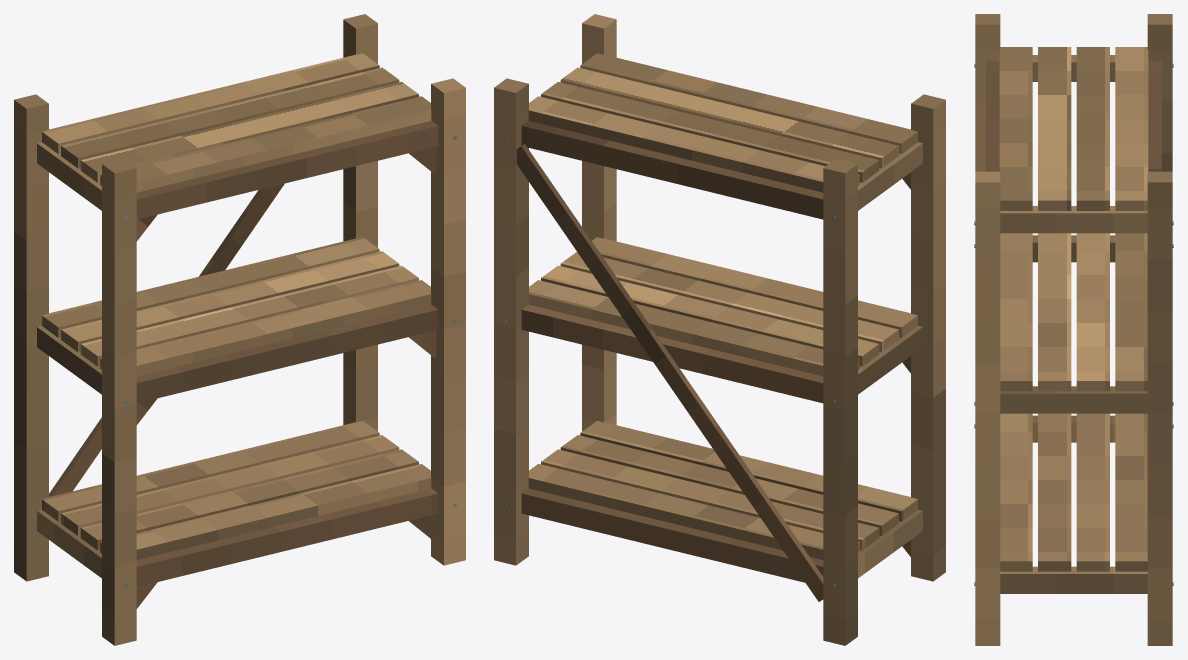
The model's file is wood-3.glb.
3 views of the same model, side by side, from view 1: azimuth 30°, elevation 25°; view 2: azimuth 150°, elevation 25°; view 3: azimuth 270°, elevation 25° (orthographic).
Visible parts, largest first — view 1: wood-3/post-0-0, wood-3/post-1-0, wood-3/post-0-1, wood-3/L2-apron--1, wood-3/L1-apron--1, wood-3/L3-apron--1, wood-3/L3-board-0, wood-3/L2-board-0, wood-3/L1-board-0, wood-3/post-1-1, wood-3/L3-board-2, wood-3/L3-board-3 (+11 smaller); view 2: wood-3/post-0-1, wood-3/post-1-1, wood-3/post-0-0, wood-3/rear-wood-brace, wood-3/L3-apron-1, wood-3/L3-board-3, wood-3/L1-apron-1, wood-3/L2-apron-1, wood-3/L2-board-3, wood-3/L1-board-3, wood-3/post-1-0, wood-3/L3-board-1 (+11 smaller); view 3: wood-3/post-1-0, wood-3/post-1-1, wood-3/L3-board-1, wood-3/L3-board-2, wood-3/L3-board-0, wood-3/L3-board-3, wood-3/L1-board-1, wood-3/L1-board-2, wood-3/L2-board-1, wood-3/L2-board-2, wood-3/L1-board-0, wood-3/L1-board-3 (+12 smaller).
Part boxes in pixels (<box>): wood-3/post-0-0: <box>102,158,136,645</box>; wood-3/post-1-0: <box>431,78,465,565</box>; wood-3/post-0-1: <box>14,94,48,581</box>; wood-3/L2-apron--1: <box>136,304,438,403</box>; wood-3/L1-apron--1: <box>136,488,438,586</box>; wood-3/L3-apron--1: <box>136,121,438,219</box>; wood-3/L3-board-0: <box>100,96,431,192</box>; wood-3/L2-board-0: <box>100,280,431,376</box>; wood-3/L1-board-0: <box>100,464,431,559</box>; wood-3/post-1-1: <box>343,14,377,431</box>; wood-3/L3-board-2: <box>61,67,399,168</box>; wood-3/L3-board-3: <box>42,53,379,153</box>; wood-3/post-0-1: <box>823,158,857,645</box>; wood-3/post-1-1: <box>494,78,528,565</box>; wood-3/post-0-0: <box>911,94,945,581</box>; wood-3/rear-wood-brace: <box>516,144,823,601</box>; wood-3/L3-apron-1: <box>521,121,823,219</box>; wood-3/L3-board-3: <box>528,96,859,192</box>; wood-3/L1-apron-1: <box>521,488,823,582</box>; wood-3/L2-apron-1: <box>521,304,823,403</box>; wood-3/L2-board-3: <box>528,280,859,376</box>; wood-3/L1-board-3: <box>528,464,859,559</box>; wood-3/post-1-0: <box>582,14,616,431</box>; wood-3/L3-board-1: <box>560,67,898,168</box>; wood-3/post-1-0: <box>975,171,1000,645</box>; wood-3/post-1-1: <box>1147,171,1172,645</box>; wood-3/L3-board-1: <box>1038,47,1071,210</box>; wood-3/L3-board-2: <box>1076,47,1109,210</box>; wood-3/L3-board-0: <box>999,47,1032,210</box>; wood-3/L3-board-3: <box>1115,47,1148,210</box>; wood-3/L1-board-1: <box>1038,413,1071,571</box>; wood-3/L1-board-2: <box>1076,413,1109,571</box>; wood-3/L2-board-1: <box>1038,233,1071,391</box>; wood-3/L2-board-2: <box>1076,233,1109,391</box>; wood-3/L1-board-0: <box>1000,413,1032,571</box>; wood-3/L1-board-3: <box>1115,413,1147,571</box>.
Bounding box in the file's own units: 0.875 × 1.12 × 0.4375.
3 materials, 3 textured.
